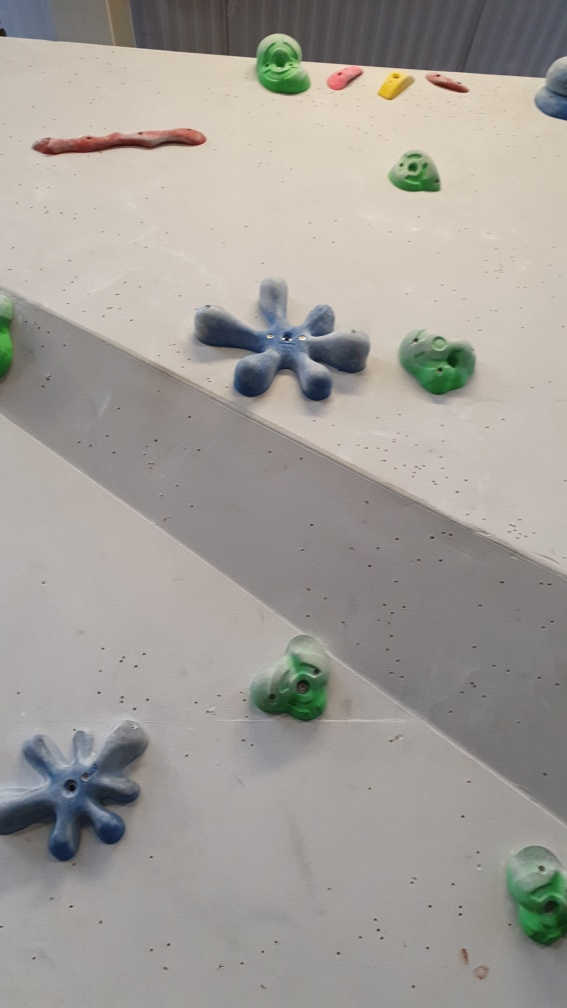Crimp: (425, 68, 471, 96), (326, 59, 363, 92)
Jug: (251, 633, 337, 719), (500, 836, 567, 944), (400, 325, 479, 399), (254, 31, 312, 94), (388, 150, 441, 193)
Octopus Pinch: (192, 274, 374, 401), (1, 718, 155, 865)
Sloper: (533, 55, 567, 127)
